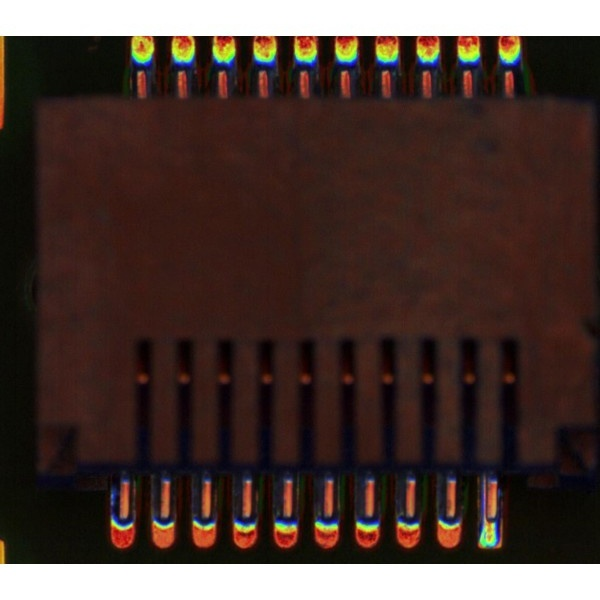Bad_qiaojiao: (480, 478, 487, 517)
